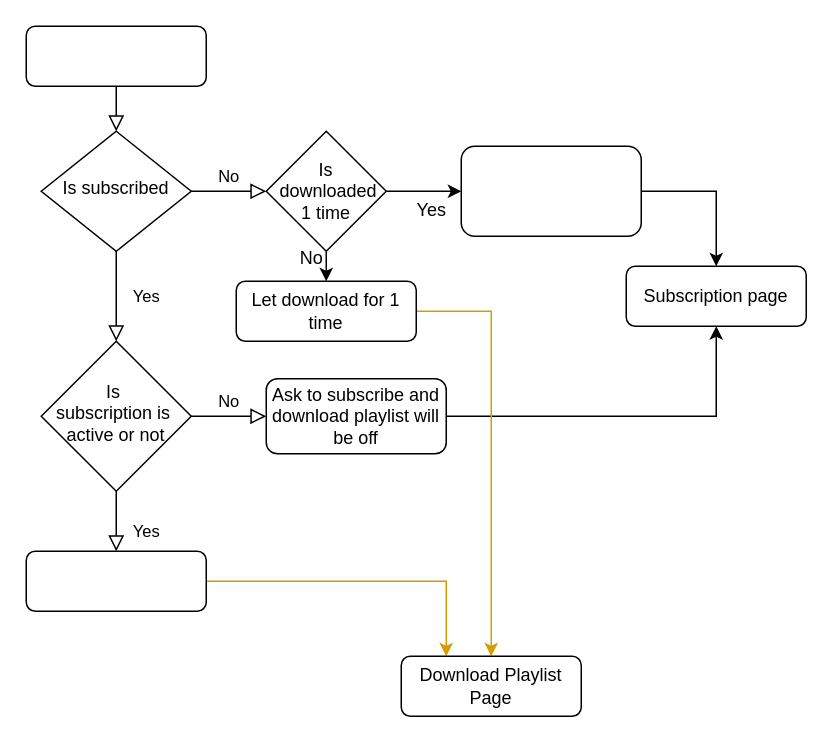
The diagram is 833 pixels wide and 743 high, and some of its shapes have lost their labels. The shapes that lost their labels are listed below. From the top down, each one's centre as x and y in pixels, then its label:
[115,55]: Dashboard
[550,190]: Ask for subscription and download playlist will be off
[115,580]: Allow Unlimited Download access
